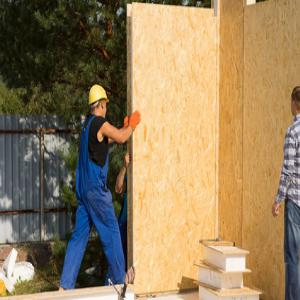none: (291, 87, 300, 120)
yellow: (89, 85, 109, 120)
